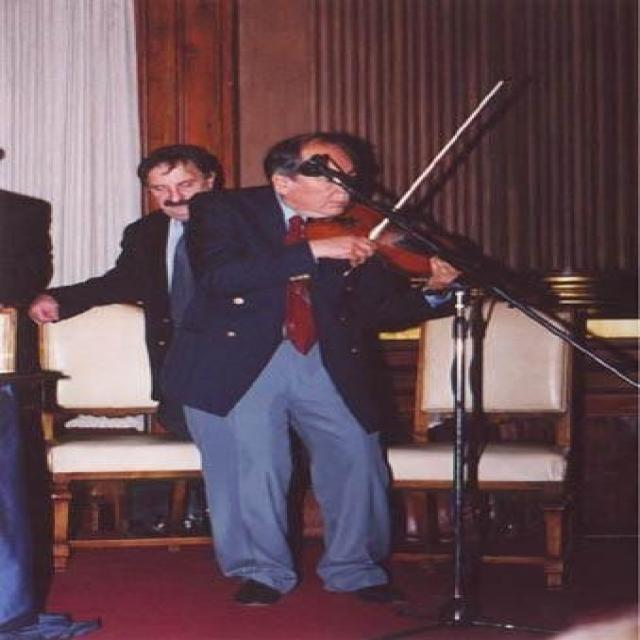violin: (289, 198, 484, 281)
